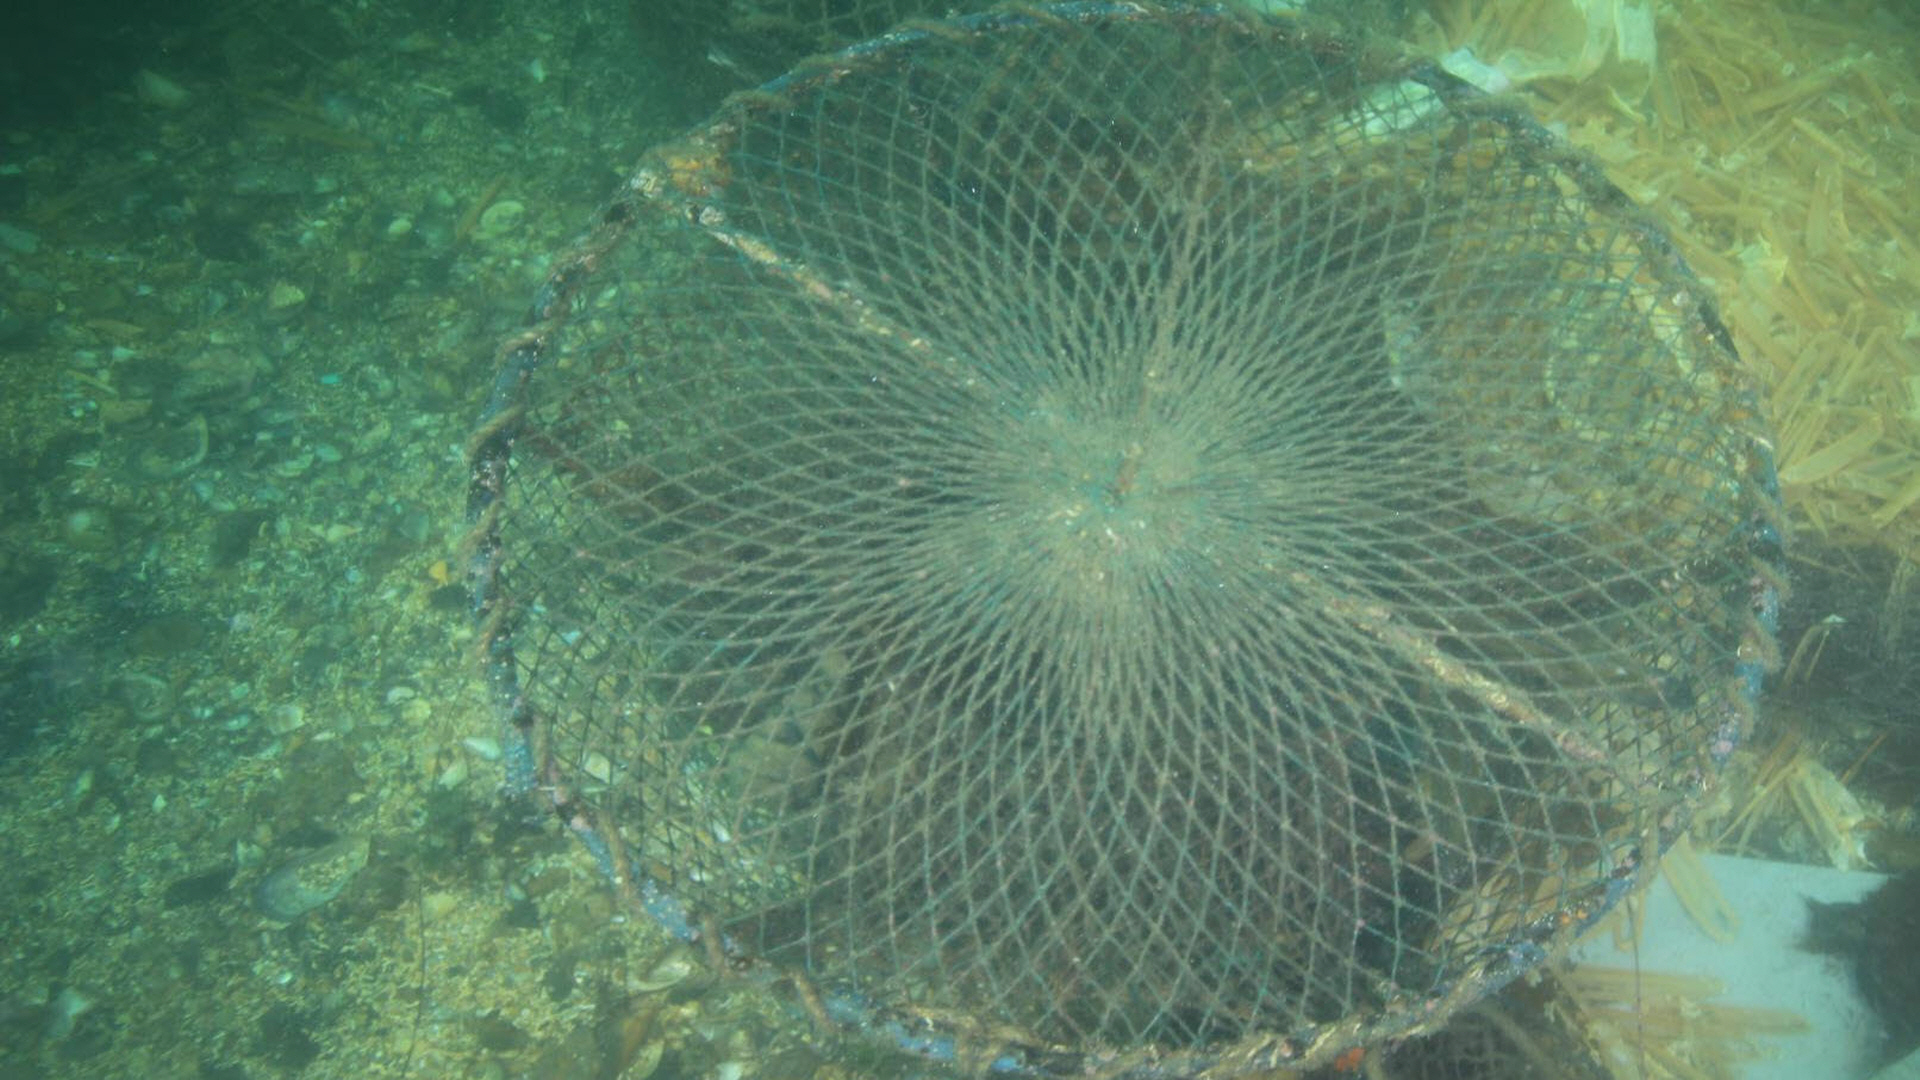circular fish trap: (467, 5, 1785, 1080)
